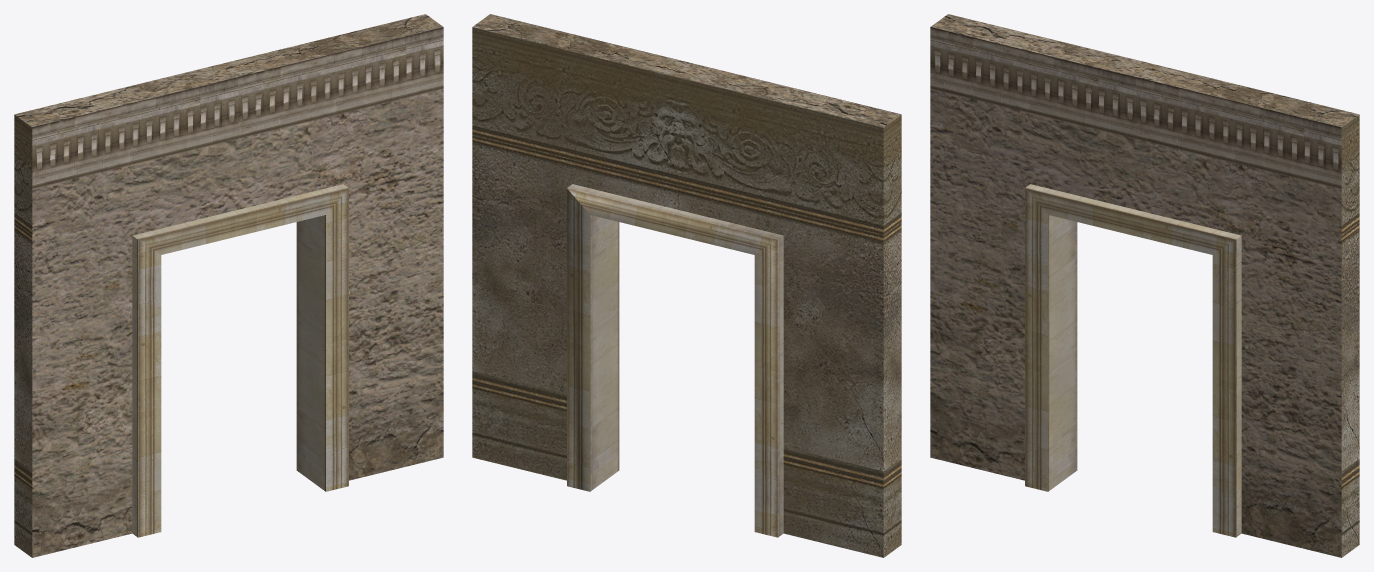
File: SH3D_Sparta_WallDoor.obj
3 renders of one model, left to right at view 1: azimuth 30°, elevation 25°; view 2: azimuth 150°, elevation 25°; view 3: azimuth 330°, elevation 25°, orthographic.
Visible parts, largest first — view 1: SH3D_ExtWall0, SH3D_Trim0, SH3D_IntWall0; view 2: SH3D_IntWall0, SH3D_Trim0, SH3D_ExtWall0; view 3: SH3D_ExtWall0, SH3D_Trim0, SH3D_IntWall0.
Part boxes in pixels (x1,y1,x2,y2): SH3D_ExtWall0: [15, 14, 443, 557]; SH3D_Trim0: [132, 184, 348, 537]; SH3D_IntWall0: [14, 114, 32, 557]; SH3D_IntWall0: [472, 27, 901, 557]; SH3D_Trim0: [567, 184, 783, 537]; SH3D_ExtWall0: [473, 14, 900, 127]; SH3D_ExtWall0: [930, 14, 1358, 557]; SH3D_Trim0: [1025, 184, 1241, 537]; SH3D_IntWall0: [1341, 114, 1359, 557].
Size of the model in its own units: 4 by 4 by 0.4918.
